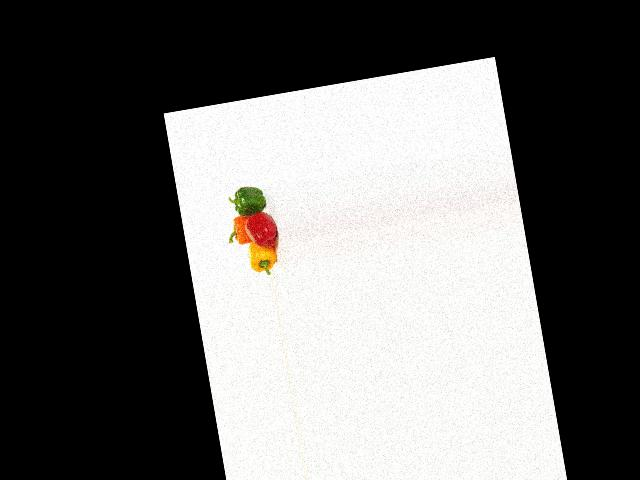bell_pepper: (229, 182, 272, 220)
